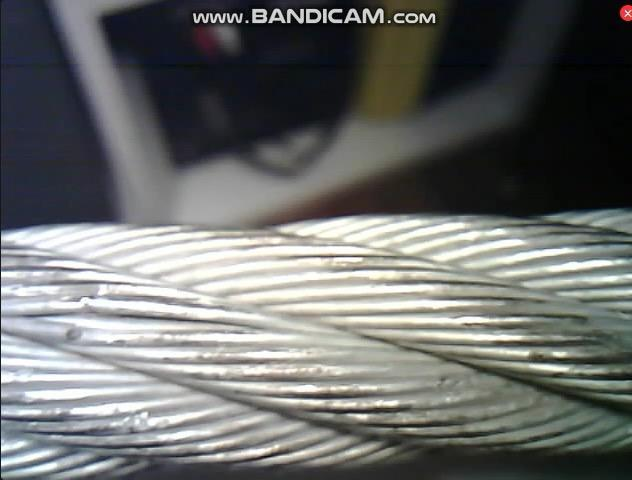break: (54, 311, 98, 352)
